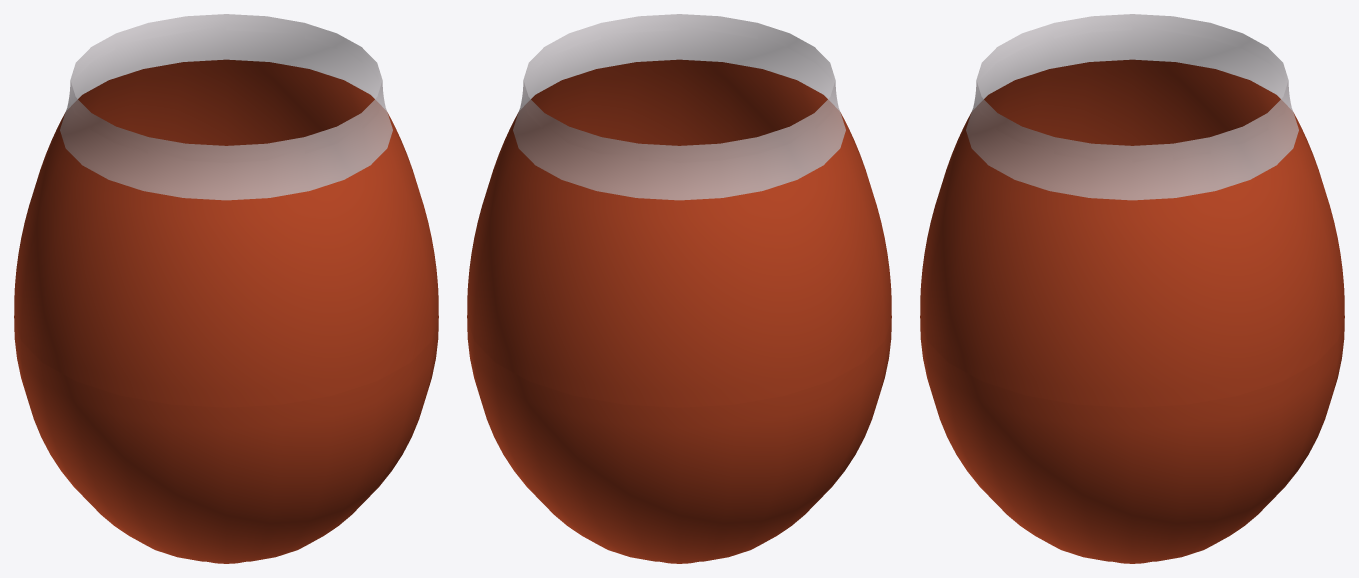
File: beer_content2.obj
3 views of the same model, side by side, from view 1: azimuth 30°, elevation 25°; view 2: azimuth 150°, elevation 25°; view 3: azimuth 270°, elevation 25° (orthographic).
Parts seen in each view (by area): view 1: Mesh1 G_13oz_Libbey_Belgian_Snifter1 Model; view 2: Mesh1 G_13oz_Libbey_Belgian_Snifter1 Model; view 3: Mesh1 G_13oz_Libbey_Belgian_Snifter1 Model.
Part boxes in pixels (x1,y1,x2,y2): Mesh1 G_13oz_Libbey_Belgian_Snifter1 Model: (14, 14, 438, 563); Mesh1 G_13oz_Libbey_Belgian_Snifter1 Model: (467, 14, 891, 563); Mesh1 G_13oz_Libbey_Belgian_Snifter1 Model: (920, 14, 1344, 563).
Size of the model in its own units: 2.78 by 3.43 by 2.78.
